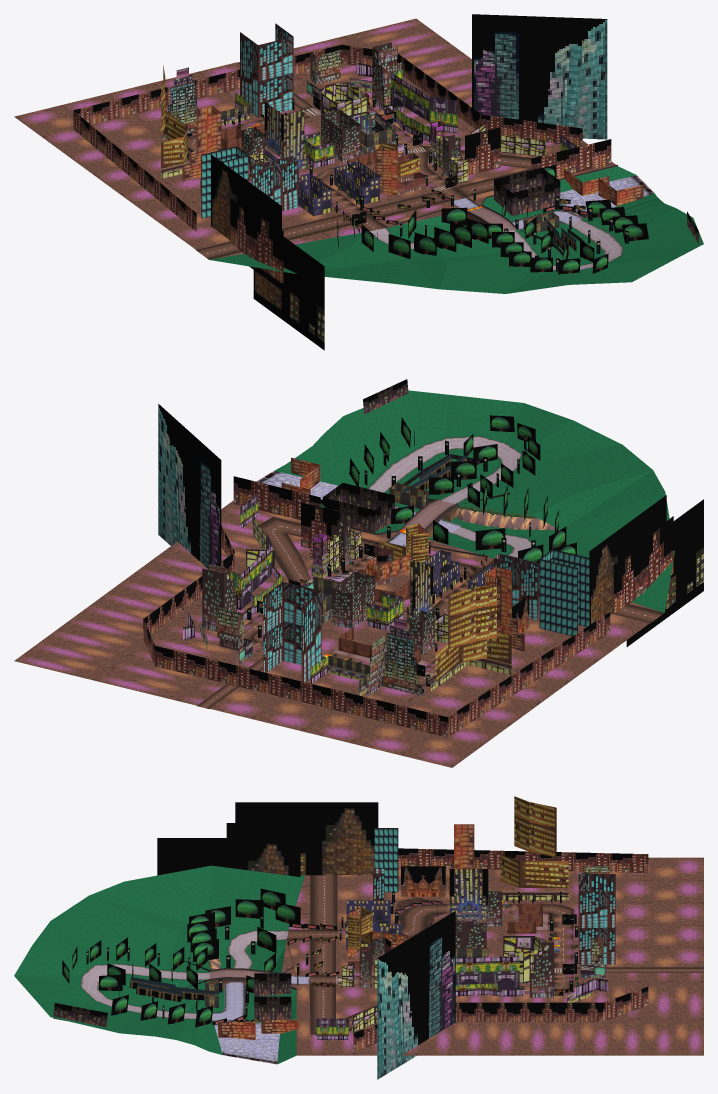
3 renders of one model, top to bottom at view 1: azimuth 30°, elevation 25°; view 2: azimuth 150°, elevation 25°; view 3: azimuth 270°, elevation 25°, orthographic. The views are drawn at different scales.
Parts seen in each view (by area): view 1: _21_py, _0_py, _24_py, _38_py, _42_py, _8_py, _13_py, _9_py, _10_py, _6_py, _18_py, _2_py (+16 smaller); view 2: _21_py, _0_py, _24_py, _38_py, _42_py, _8_py, _13_py, _19_py, _6_py, _35_py, _41_py, _10_py (+16 smaller); view 3: _21_py, _0_py, _42_py, _38_py, _24_py, _8_py, _9_py, _19_py, _10_py, _13_py, _6_py, _35_py (+17 smaller).
Boxes of the visible parts, box(x1,y1,x2,y2) form: _21_py: box(14, 18, 615, 259); _0_py: box(210, 166, 703, 293); _24_py: box(73, 44, 611, 283); _38_py: box(472, 14, 607, 139); _42_py: box(211, 154, 324, 350); _8_py: box(337, 164, 648, 274); _13_py: box(240, 23, 298, 211); _9_py: box(187, 62, 531, 259); _10_py: box(235, 57, 576, 167); _6_py: box(241, 42, 460, 176); _18_py: box(182, 106, 643, 206); _2_py: box(249, 83, 545, 183); _21_py: box(14, 500, 660, 767); _0_py: box(274, 390, 674, 612); _24_py: box(143, 476, 673, 737); _38_py: box(158, 404, 221, 569); _42_py: box(589, 495, 703, 646); _8_py: box(320, 415, 576, 562); _13_py: box(263, 553, 539, 682); _19_py: box(381, 523, 511, 681); _6_py: box(202, 520, 434, 696); _35_py: box(366, 434, 536, 557); _41_py: box(539, 549, 589, 636); _10_py: box(183, 493, 403, 683); _21_py: box(282, 857, 703, 1055); _0_py: box(14, 865, 304, 1064); _42_py: box(157, 802, 378, 876); _38_py: box(377, 911, 455, 1079); _24_py: box(226, 823, 648, 1051); _8_py: box(62, 888, 300, 1027); _9_py: box(286, 875, 703, 1034); _19_py: box(347, 796, 568, 950); _10_py: box(316, 921, 607, 1039); _13_py: box(373, 868, 615, 964); _6_py: box(359, 891, 553, 997); _35_py: box(79, 929, 288, 1021).
Bounding box in the file's own units: 91796 × 31765 × 125976.
52 materials, 52 textured.
